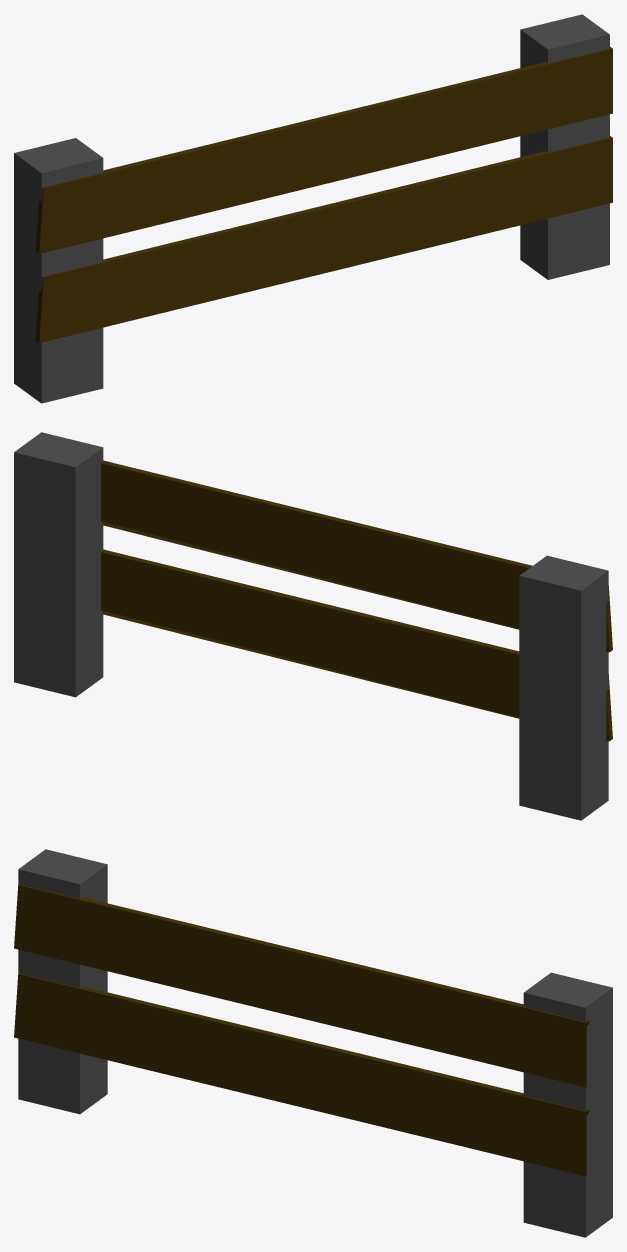
File: Fence2.fbx
3 renders of one model, top to bottom at view 1: azimuth 30°, elevation 25°; view 2: azimuth 150°, elevation 25°; view 3: azimuth 330°, elevation 25°, orthographic.
Parts seen in each view (by area): view 1: Cube.010, Cube.008; view 2: Cube.010, Cube.008; view 3: Cube.010, Cube.008.
Part boxes in pixels (x1=…): Cube.010: x1=35, y1=47, x2=612, y2=343; Cube.008: x1=14, y1=14, x2=609, y2=403; Cube.010: x1=101, y1=460, x2=612, y2=741; Cube.008: x1=14, y1=432, x2=608, y2=820; Cube.010: x1=14, y1=884, x2=589, y2=1176; Cube.008: x1=18, y1=849, x2=612, y2=1237.
Bounding box in the file's own units: 521 × 200 × 44.84.
